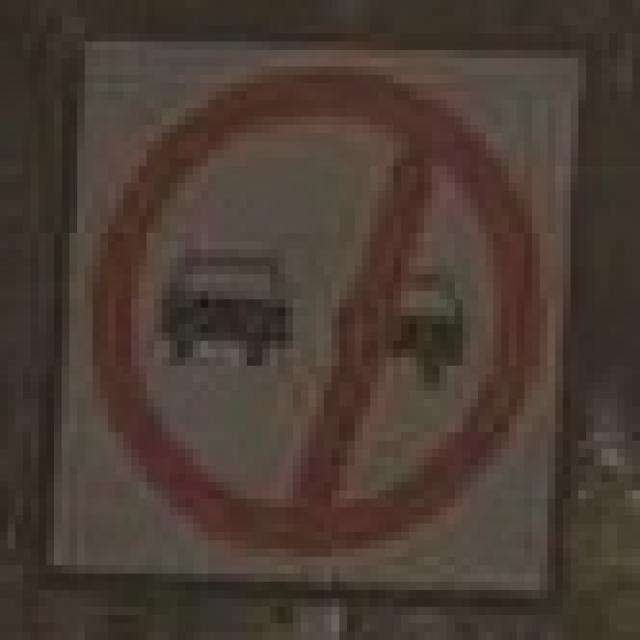overtaking prohibited: (83, 62, 555, 564)
